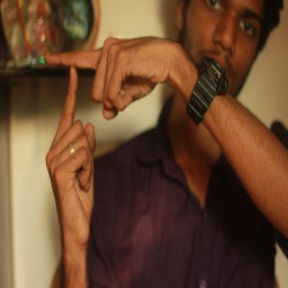T: (37, 38, 118, 158)
